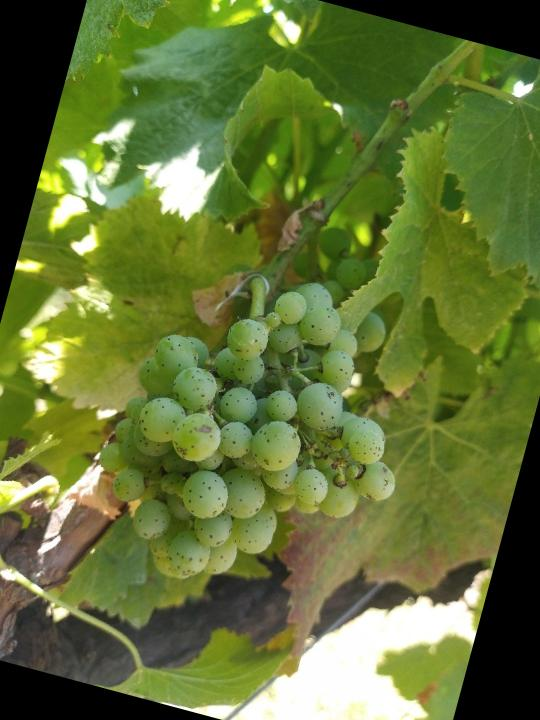grape: (73, 239, 442, 630)
